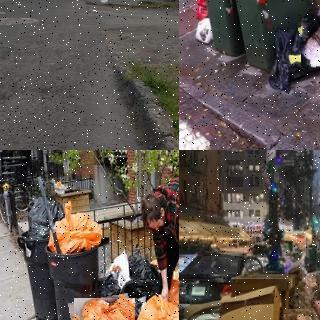Garbage: (270, 26, 320, 94), (45, 203, 106, 256), (119, 249, 164, 317), (26, 186, 70, 242), (71, 295, 138, 320), (299, 16, 320, 69), (135, 298, 179, 320), (282, 303, 320, 320), (194, 18, 213, 44), (190, 0, 208, 17), (94, 0, 108, 4)
